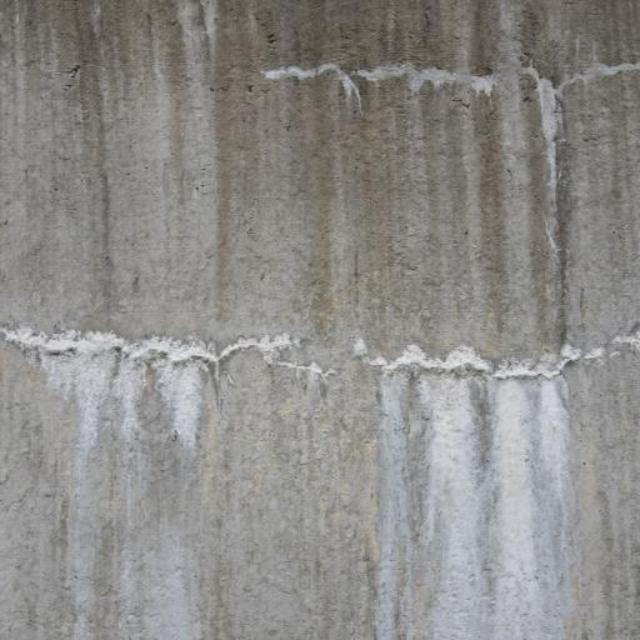D01: (350, 342, 597, 639), (2, 330, 297, 457), (262, 62, 497, 99), (526, 62, 561, 229)
